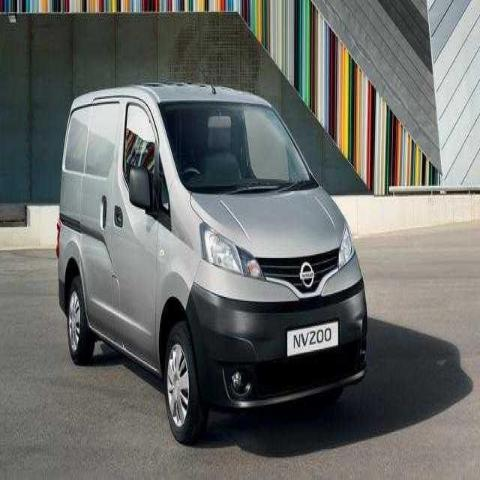van: (55, 80, 368, 446)
